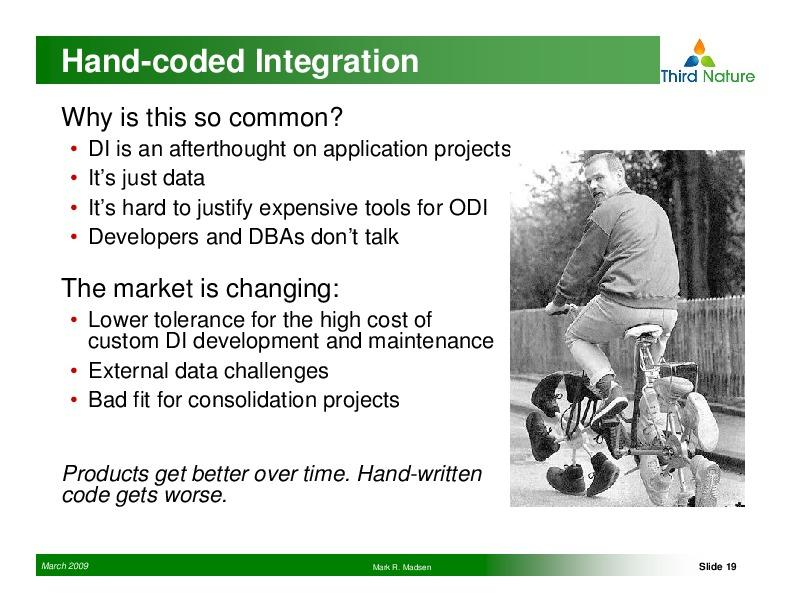paragraph: (59, 96, 514, 523)
title: (52, 36, 432, 86)
